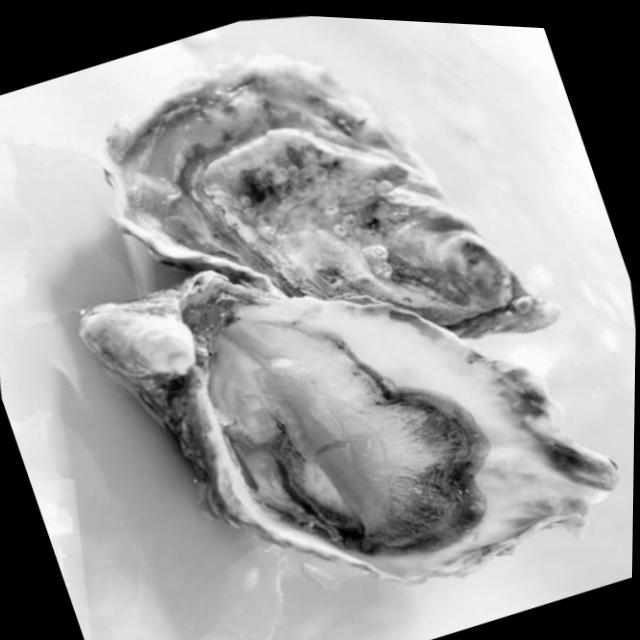Oyster-Indeterminate: (70, 4, 568, 459)
Oyster-Open: (65, 148, 638, 640)
